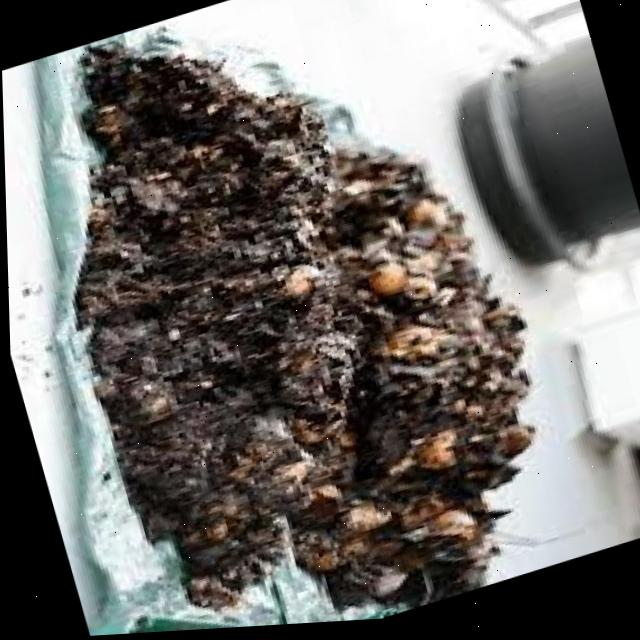Wet: (0, 0, 622, 640), (340, 247, 420, 316)
